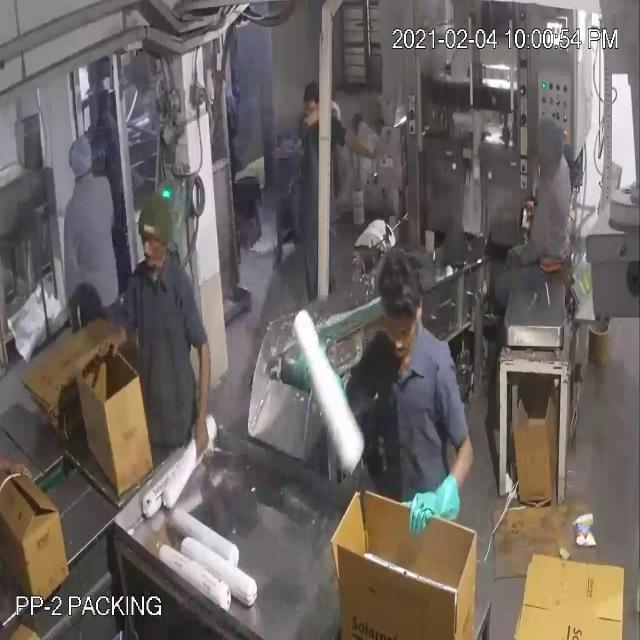No_Gloves: (37, 46, 442, 496)
